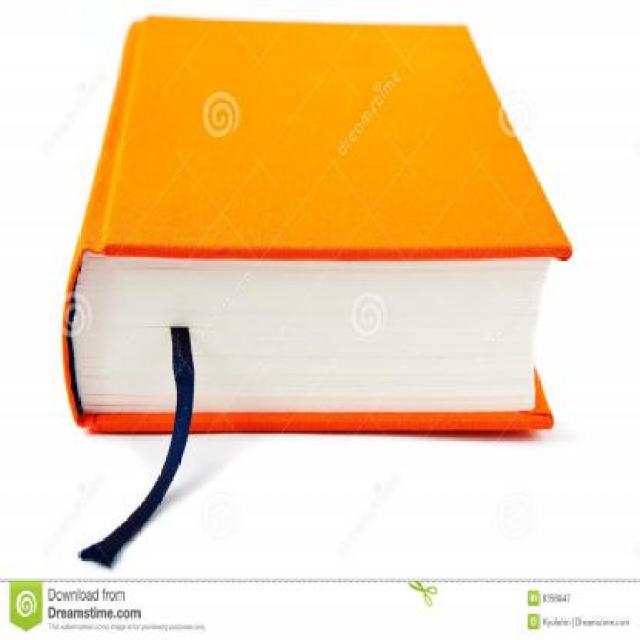book: (57, 0, 598, 594)
